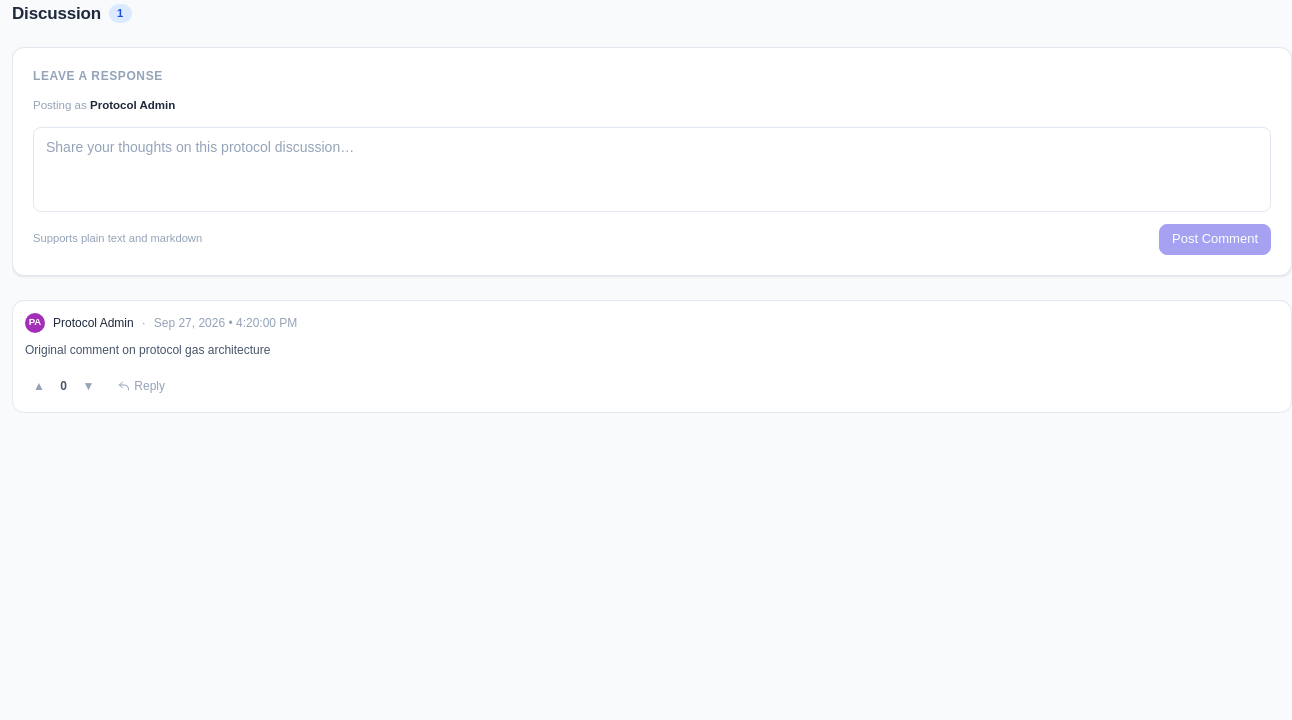
Test case: ThreadDiscussion Component Integration › renders initial comments and updates tree dynamically when a reply is posted without reload
The width and height of the screenshot is (1292, 720).
Expected: the text "Original comment on protocol gas architecture" is shown, left=25, top=343, right=270, bottom=357
Expected: the text "1" is shown, left=109, top=4, right=132, bottom=24
Note: Click "Reply" on the comment
Click the button "Reply" at (142, 386), box left=118, top=378, right=165, bottom=394
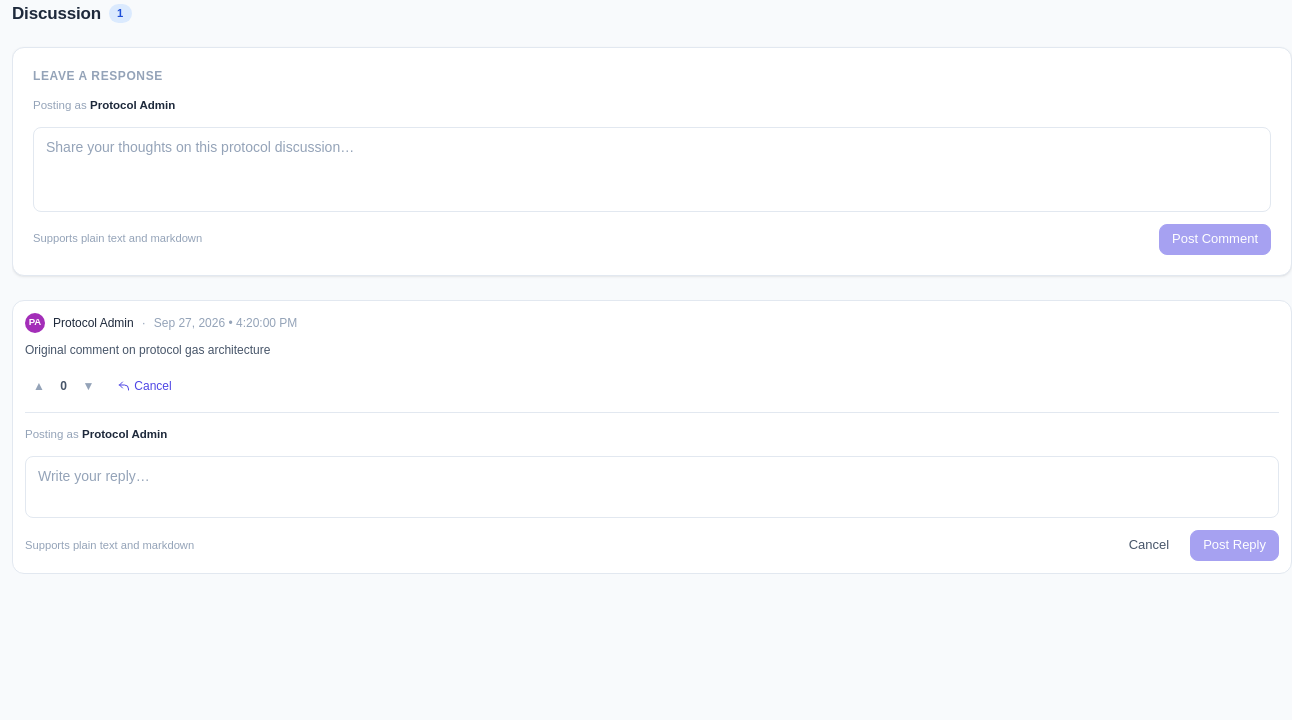
Now the text box with placeholder "Write your reply…" is shown
Note: User types "hola mamaen" and posts reply
Type "hola mamaen" into the text box with placeholder "Write your reply…" at (652, 487), box left=25, top=456, right=1279, bottom=518
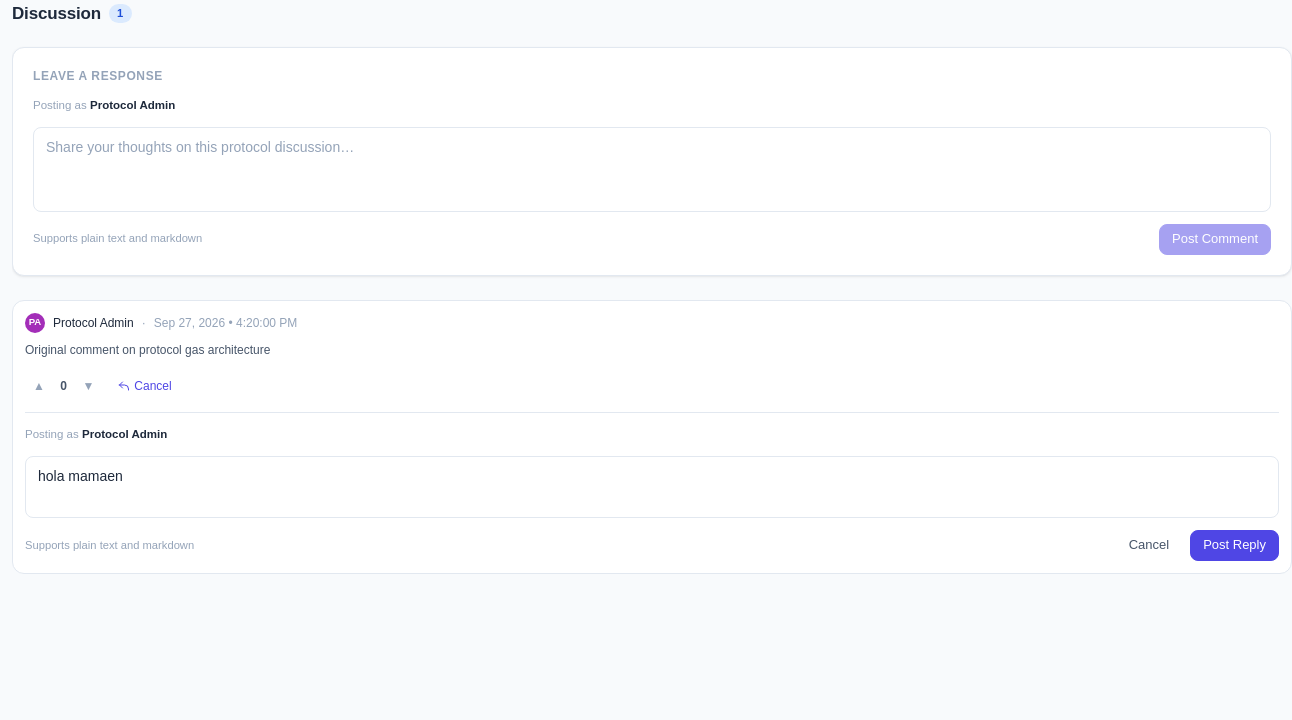
Click the button "Post Reply" at (1235, 546), box left=1190, top=530, right=1279, bottom=561
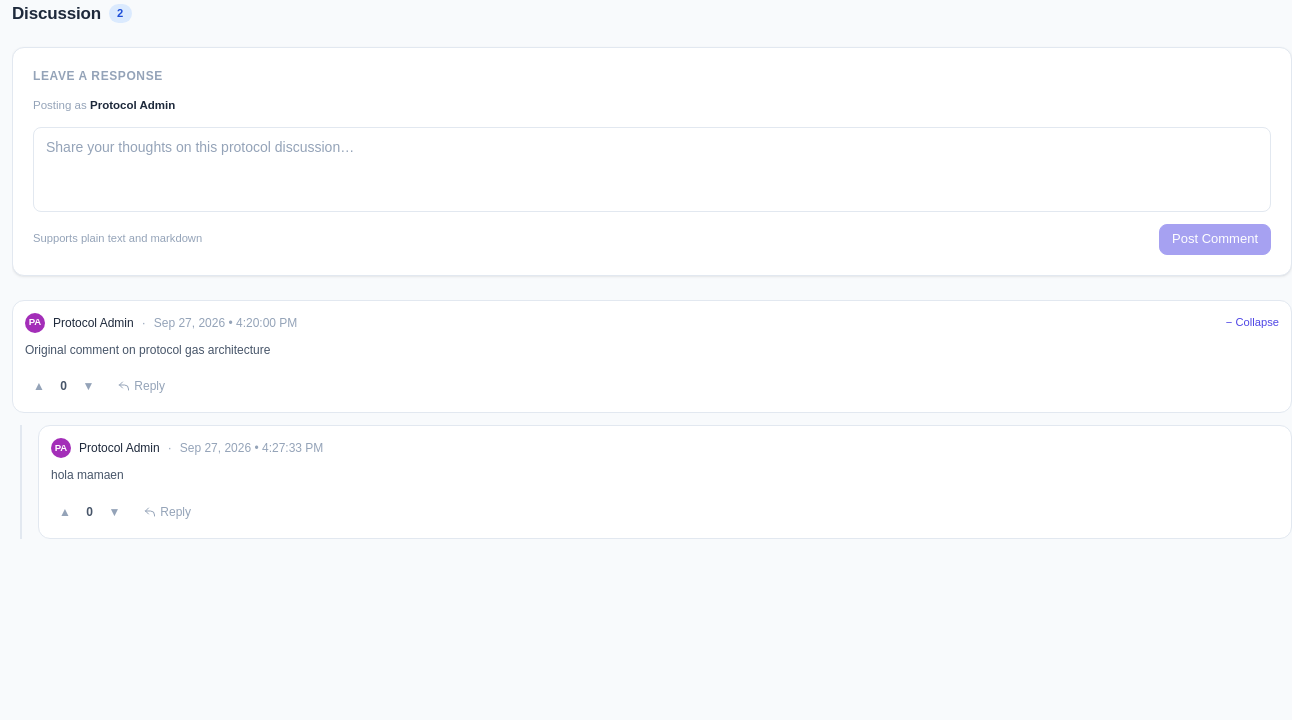
Expected: the field with placeholder "Write your reply" is not shown
Now the text "hola mamaen" is shown, box left=51, top=468, right=124, bottom=482
Now the text "2" is shown, box left=109, top=4, right=132, bottom=24
